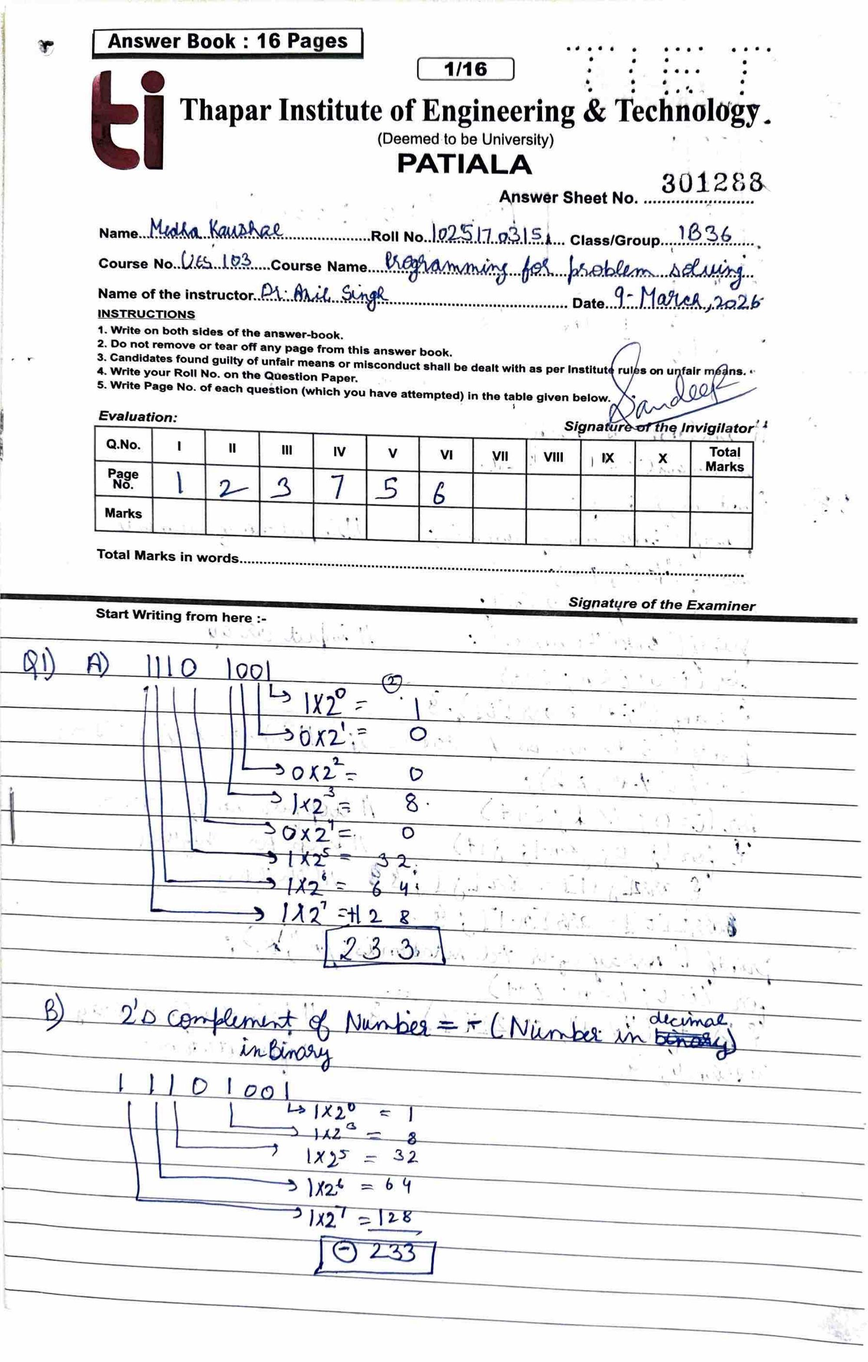cuttings: (653, 1027, 732, 1062)
